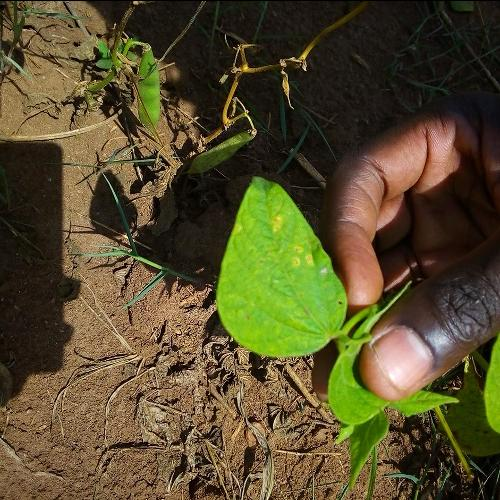hawar: (197, 194, 350, 328)
